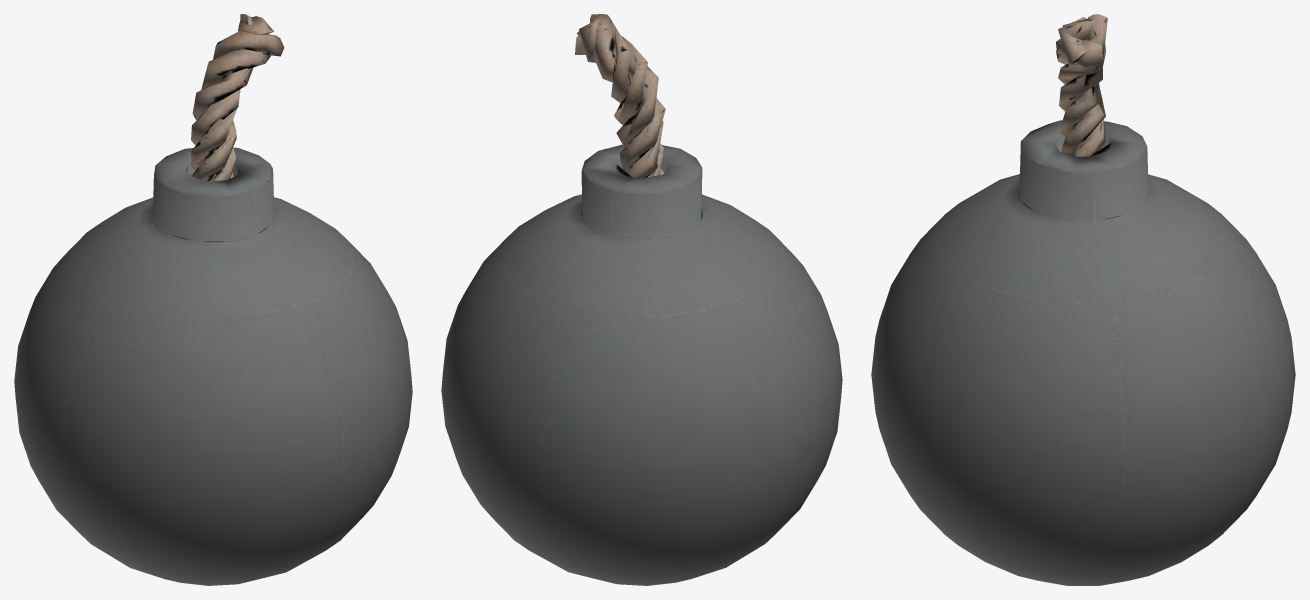
File: voicemailbomb.glb
The picture shows the model from 3 angles, left to right: view 1: azimuth 30°, elevation 25°; view 2: azimuth 150°, elevation 25°; view 3: azimuth 270°, elevation 25°; orthographic projection. The views are drawn at different scales.
Visible parts, largest first — view 1: Object_2, Object_3; view 2: Object_2, Object_3; view 3: Object_2, Object_3.
Boxes of the visible parts, left/top/right/bottom form: Object_2: left=14, top=147, right=412, bottom=585; Object_3: left=190, top=14, right=284, bottom=181; Object_2: left=441, top=144, right=842, bottom=585; Object_3: left=575, top=14, right=665, bottom=178; Object_2: left=871, top=120, right=1295, bottom=585; Object_3: left=1056, top=14, right=1107, bottom=156.
Size of the model in its own units: 2.96 by 4.41 by 2.96.
1 material, 1 textured.
